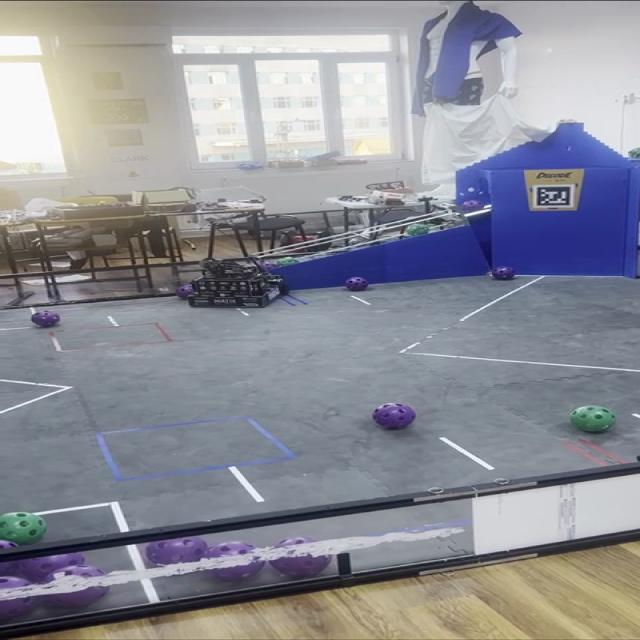artifact_green: (0, 512, 46, 544), (571, 406, 615, 433), (407, 224, 430, 236), (278, 258, 298, 266), (628, 148, 639, 159)
artifact_purple: (19, 553, 85, 582), (146, 537, 207, 565), (270, 554, 330, 577), (46, 587, 109, 608), (372, 404, 417, 430), (208, 560, 265, 580), (0, 597, 34, 620), (31, 311, 59, 327), (346, 277, 369, 292), (492, 267, 515, 281), (0, 561, 21, 575), (462, 200, 483, 212), (176, 285, 194, 299), (259, 261, 277, 271)
